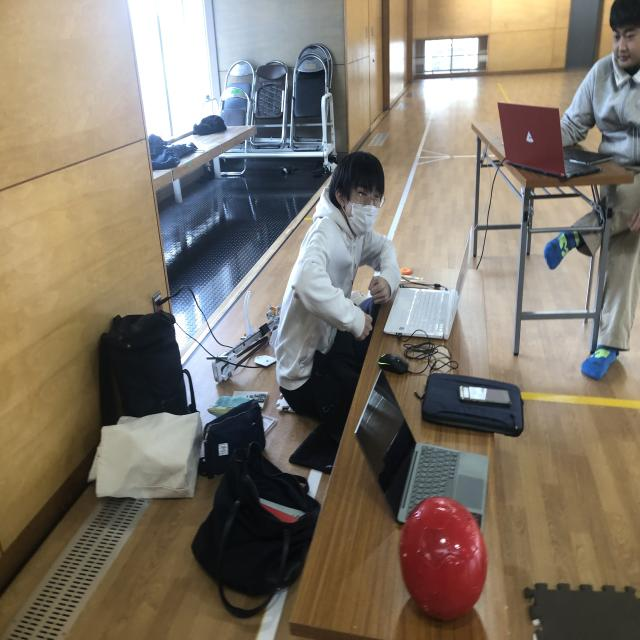red_ball: (399, 498, 486, 624)
